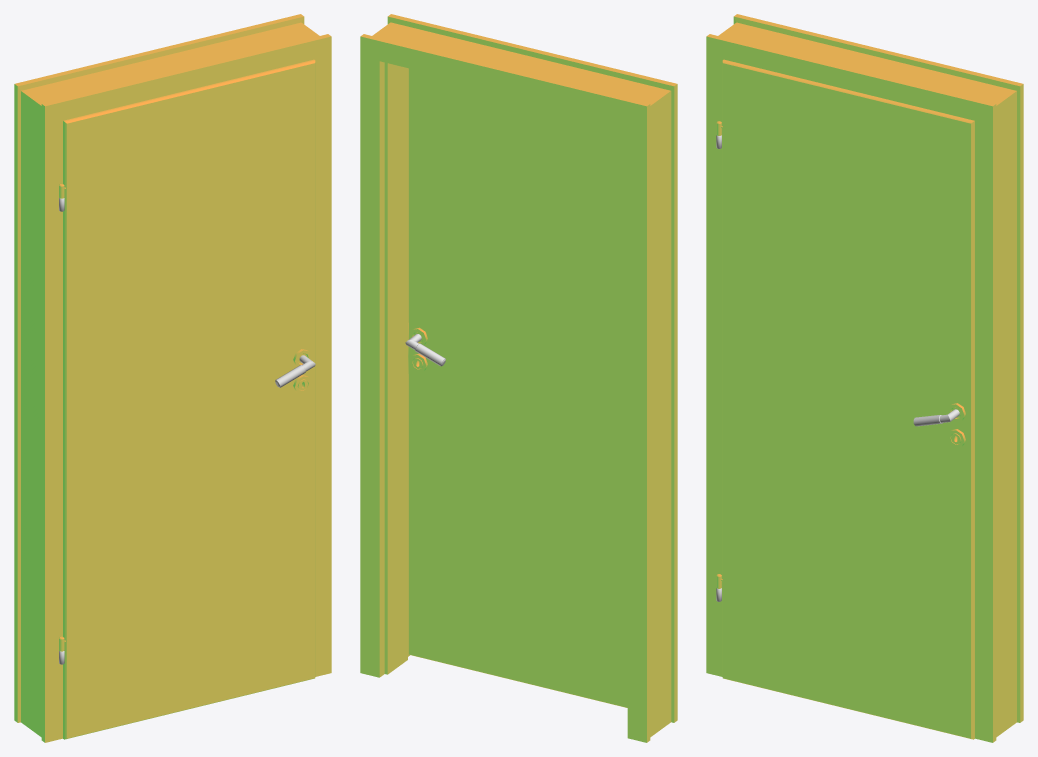
The model's file is doorgreen.gltf.
The picture shows the model from 3 angles, left to right: view 1: azimuth 30°, elevation 25°; view 2: azimuth 150°, elevation 25°; view 3: azimuth 330°, elevation 25°; orthographic projection.
Visible parts, largest first — view 1: Plane001, Plane002, Plane001_1; view 2: Plane001, Plane002; view 3: Plane001, Plane002, Plane001_1.
Part boxes in pixels (left/top/right/bottom): Plane001: left=63, top=59, right=315, bottom=739; Plane002: left=14, top=14, right=331, bottom=742; Plane001_1: left=59, top=184, right=311, bottom=651; Plane001: left=408, top=68, right=627, bottom=707; Plane002: left=360, top=14, right=677, bottom=742; Plane001: left=722, top=59, right=974, bottom=739; Plane002: left=706, top=14, right=1023, bottom=742; Plane001_1: left=716, top=121, right=965, bottom=588.
Size of the model in its own units: 0.97 by 2.06 by 0.2616.
